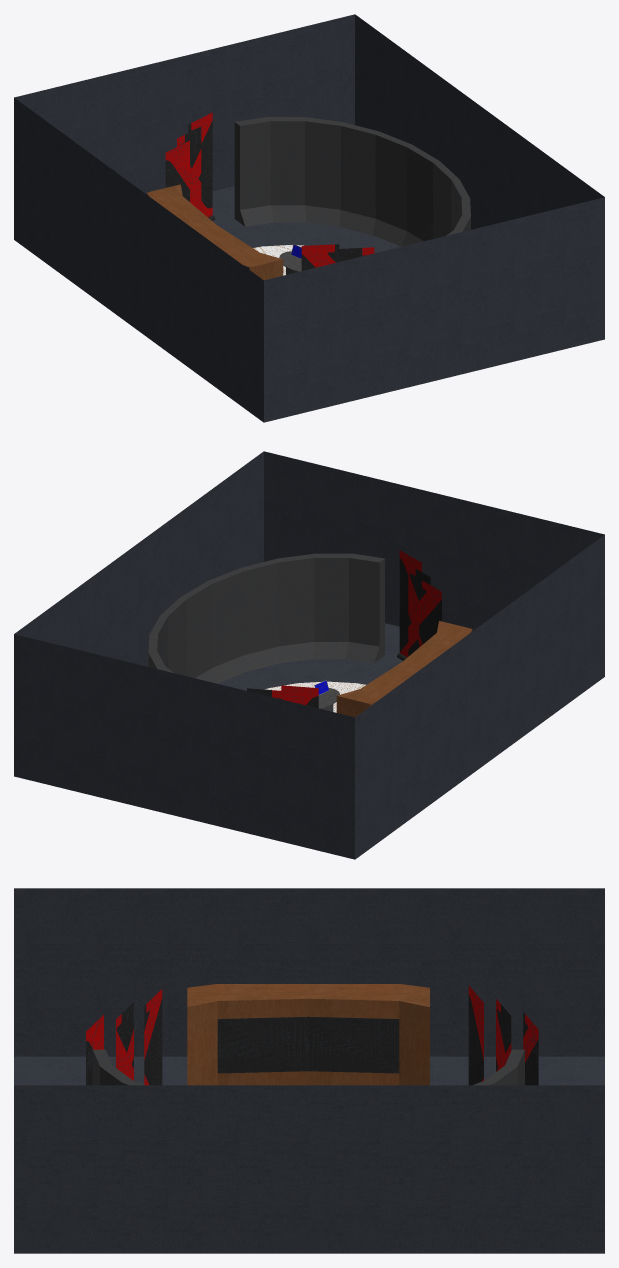
Rendered from hbxlivestudio6.dae.
3 views of the same model, one above another, from view 1: azimuth 30°, elevation 25°; view 2: azimuth 150°, elevation 25°; view 3: azimuth 270°, elevation 25° (orthographic). The views are drawn at different scales.
Visible parts, largest first — view 1: skp7D89 (×8); view 2: skp7D89 (×10); view 3: skp7D89 (×14).
Boxes of the visible parts, x1,y1,x2,y2 form: skp7D89 (×8): (14, 14, 604, 422); skp7D89 (×10): (14, 451, 604, 859); skp7D89 (×14): (14, 888, 604, 1253).
Bounding box in the file's own units: 396 × 502 × 158.
Materials: 11 (5 with a texture image).
